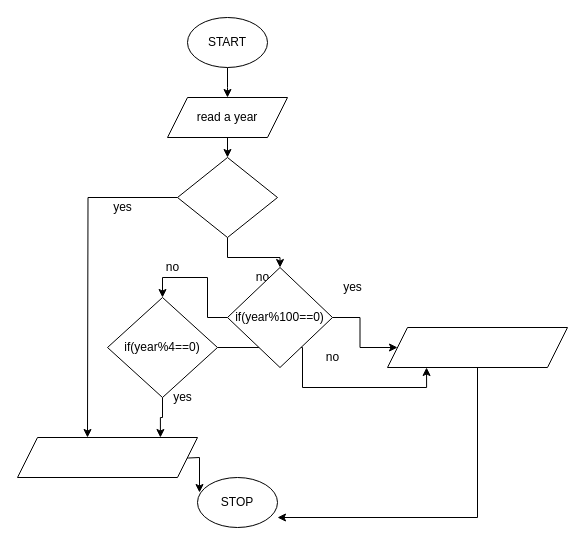
Some shapes in this 585 by 545 pixel diagram are drawn without their labels. The centre of each missing label's shape, as x and y in pixels:
"if(year%400==0)" belongs at (227,197).
"print year is a leap year." belongs at (107,457).
"print year is not a leap year." belongs at (477,347).
